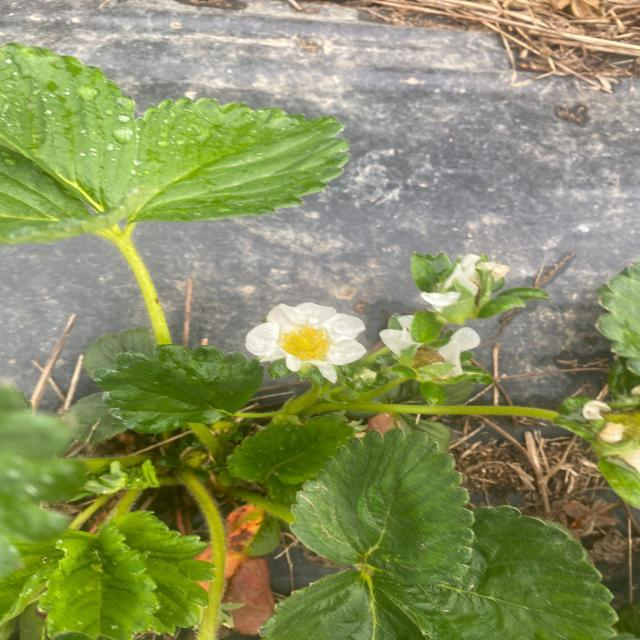flower: (238, 292, 371, 384), (377, 306, 481, 384)
